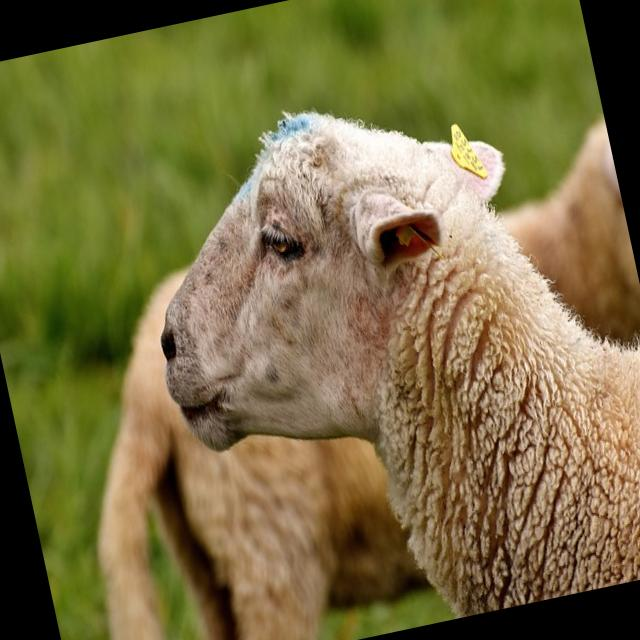sheep: (116, 44, 640, 640), (36, 230, 436, 640)
